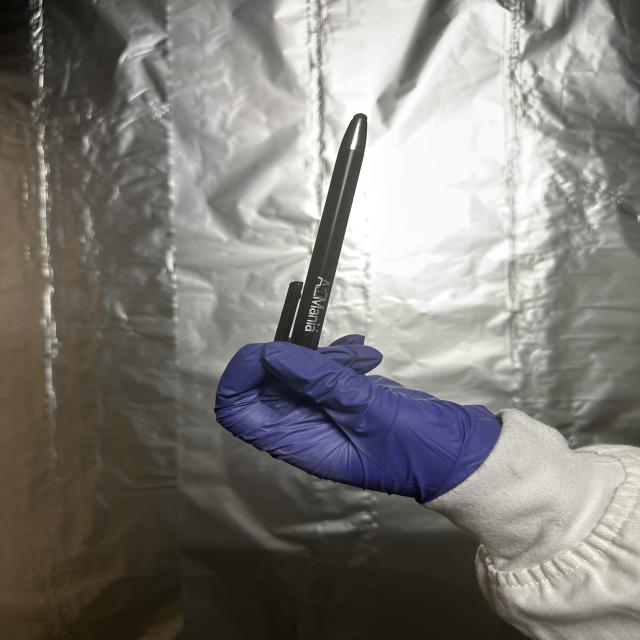gloves_contaminated: (215, 335, 501, 503)
